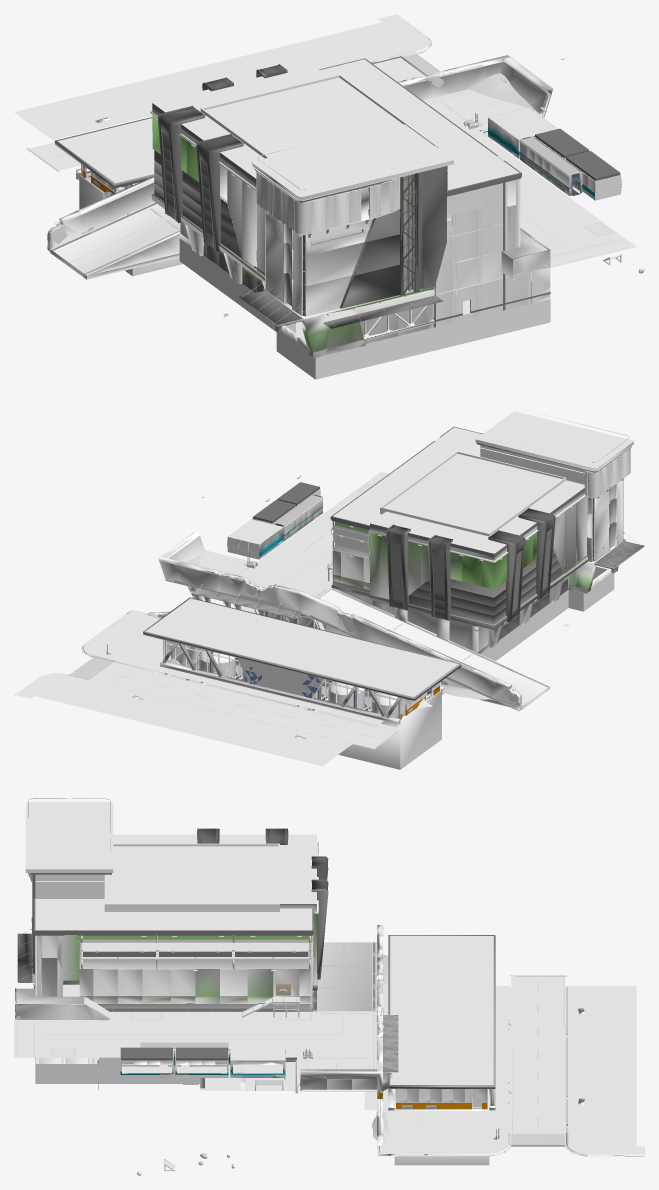
File: cell_82_56.fbx
3 views of the same model, one above another, from view 1: azimuth 30°, elevation 25°; view 2: azimuth 150°, elevation 25°; view 3: azimuth 270°, elevation 25° (orthographic). The views are drawn at different scales.
Parts seen in each view (by area): view 1: SM_H_Building_FutureTech_HOrange_01_ExterWall_01.mo, SM_H_Building_FutureTech_HStairs_02.mo, SM_I_RoadFacility_Ground_H_19A.mo, SM_H_Building_FutureTech_PipeHouse_01_ExterWall_01.mo, SM_H_Building_FutureTech_HLight_01_InterWall_05.mo, SM_H_Building_FutureTech_HStairs_01B.mo, SM_H_Building_FutureTech_HLight_01_InterWall_07.mo, SM_I_RoadFacility_Ground_H_19B.mo, SM_I_Terrain_Road_Desert_Decal_Sand_05.mo.007, SM_H_Building_FutureTech_HStairs_01E.mo; view 2: SM_H_Building_FutureTech_HOrange_01_ExterWall_01.mo, SM_H_Building_FutureTech_PipeHouse_01_ExterWall_01.mo, SM_I_RoadFacility_Ground_H_19A.mo, SM_H_Building_FutureTech_HStairs_02.mo, SM_H_Building_FutureTech_HStairs_01B.mo, SM_H_Building_FutureTech_HLight_01_InterWall_05.mo, SM_H_Building_FutureTech_HLight_01_InterWall_07.mo, SM_I_RoadFacility_Ground_H_19B.mo, SM_H_Building_FutureTech_PipeHouse_01_InterWall_01.mo, SM_H_Industrial_Mechanical_MetalSilo_01.mo.002, SM_H_Industrial_Mechanical_MetalSilo_01.mo.005, SM_RoadFacility_Road_AsphaltRoad_512_01.mo.012; view 3: SM_H_Building_FutureTech_HOrange_01_ExterWall_01.mo, SM_I_RoadFacility_Ground_H_19A.mo, SM_H_Building_FutureTech_HStairs_02.mo, SM_H_Building_FutureTech_PipeHouse_01_ExterWall_01.mo, SM_H_Building_FutureTech_HLight_01_InterWall_05.mo, SM_H_Building_FutureTech_HLight_01_InterWall_07.mo, SM_H_Building_FutureTech_HStairs_05.mo, SM_I_RoadFacility_Ground_H_19B.mo, SM_H_Building_FutureTech_HStairs_01B.mo, SM_H_Building_FutureTech_HStairs_01E.mo, SM_RoadFacility_Road_AsphaltRoad_512_01.mo.012, SM_H_WalkwaySystem_MetalSupport_16.mo.001.
Part boxes in pixels (x1,y1,x2,y2): SM_H_Building_FutureTech_HOrange_01_ExterWall_01.mo: (150,58,550,379); SM_H_Building_FutureTech_HStairs_02.mo: (47,55,636,279); SM_I_RoadFacility_Ground_H_19A.mo: (14,14,431,170); SM_H_Building_FutureTech_PipeHouse_01_ExterWall_01.mo: (54,56,427,276); SM_H_Building_FutureTech_HLight_01_InterWall_05.mo: (519,128,621,200); SM_H_Building_FutureTech_HStairs_01B.mo: (47,55,632,276); SM_H_Building_FutureTech_HLight_01_InterWall_07.mo: (488,107,557,158); SM_I_RoadFacility_Ground_H_19B.mo: (19,18,428,126); SM_I_Terrain_Road_Desert_Decal_Sand_05.mo.007: (469,73,544,115); SM_H_Building_FutureTech_HStairs_01E.mo: (69,90,633,266); SM_H_Building_FutureTech_HOrange_01_ExterWall_01.mo: (330,410,644,660); SM_H_Building_FutureTech_PipeHouse_01_ExterWall_01.mo: (143,597,461,769); SM_I_RoadFacility_Ground_H_19A.mo: (14,609,441,766); SM_H_Building_FutureTech_HStairs_02.mo: (146,472,550,710); SM_H_Building_FutureTech_HStairs_01B.mo: (151,474,549,706); SM_H_Building_FutureTech_HLight_01_InterWall_05.mo: (252,482,322,541); SM_H_Building_FutureTech_HLight_01_InterWall_07.mo: (227,519,283,559); SM_I_RoadFacility_Ground_H_19B.mo: (22,653,351,762); SM_H_Building_FutureTech_PipeHouse_01_InterWall_01.mo: (167,641,430,717); SM_H_Industrial_Mechanical_MetalSilo_01.mo.002: (328,681,365,709); SM_H_Industrial_Mechanical_MetalSilo_01.mo.005: (198,649,235,678); SM_RoadFacility_Road_AsphaltRoad_512_01.mo.012: (68,655,114,679); SM_H_Building_FutureTech_HOrange_01_ExterWall_01.mo: (17,798,328,1089); SM_I_RoadFacility_Ground_H_19A.mo: (364,976,644,1156); SM_H_Building_FutureTech_HStairs_02.mo: (14,925,398,1148); SM_H_Building_FutureTech_PipeHouse_01_ExterWall_01.mo: (388,935,495,1165); SM_H_Building_FutureTech_HLight_01_InterWall_05.mo: (120,1042,228,1077); SM_H_Building_FutureTech_HLight_01_InterWall_07.mo: (228,1043,285,1077); SM_H_Building_FutureTech_HStairs_05.mo: (183,1057,376,1093); SM_I_RoadFacility_Ground_H_19B.mo: (385,984,644,1153); SM_H_Building_FutureTech_HStairs_01B.mo: (15,925,383,1140); SM_H_Building_FutureTech_HStairs_01E.mo: (16,942,373,1069); SM_RoadFacility_Road_AsphaltRoad_512_01.mo.012: (507,1132,568,1146); SM_H_WalkwaySystem_MetalSupport_16.mo.001: (241,996,299,1017).
Bounding box in the file's own units: 98.4 × 46.28 × 121.
